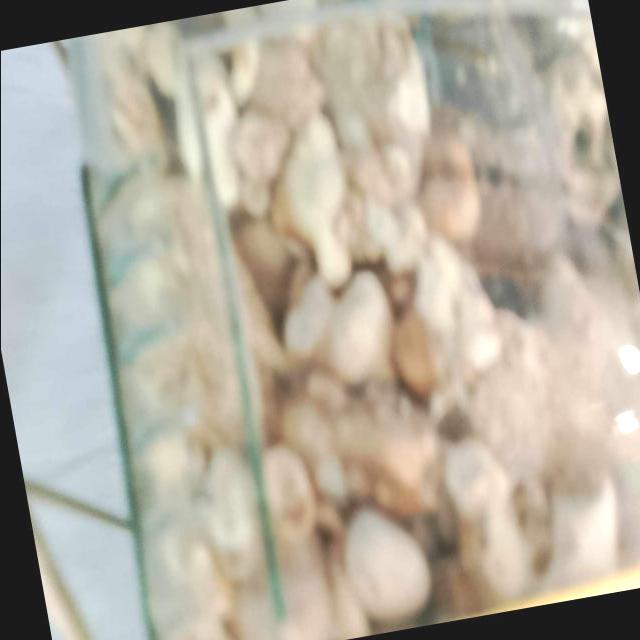General: (81, 5, 640, 638)
Sharps: (161, 29, 292, 624)
